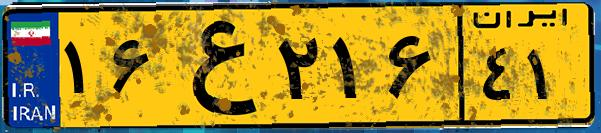1: (330, 28, 385, 110), (57, 26, 110, 100), (525, 38, 570, 115)
2: (270, 28, 330, 110)
4: (475, 38, 525, 113)
6: (385, 28, 445, 110), (110, 28, 158, 98)
ع: (158, 12, 270, 120)
